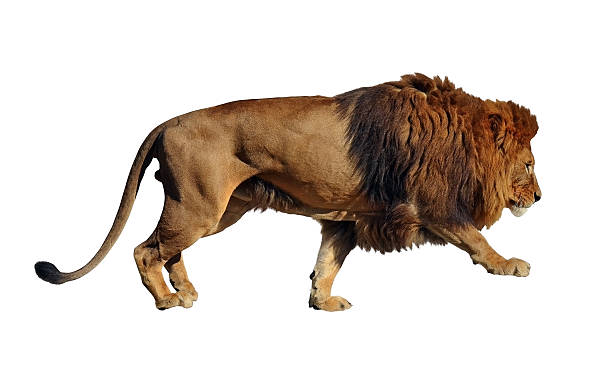lion: (337, 67, 566, 288)
